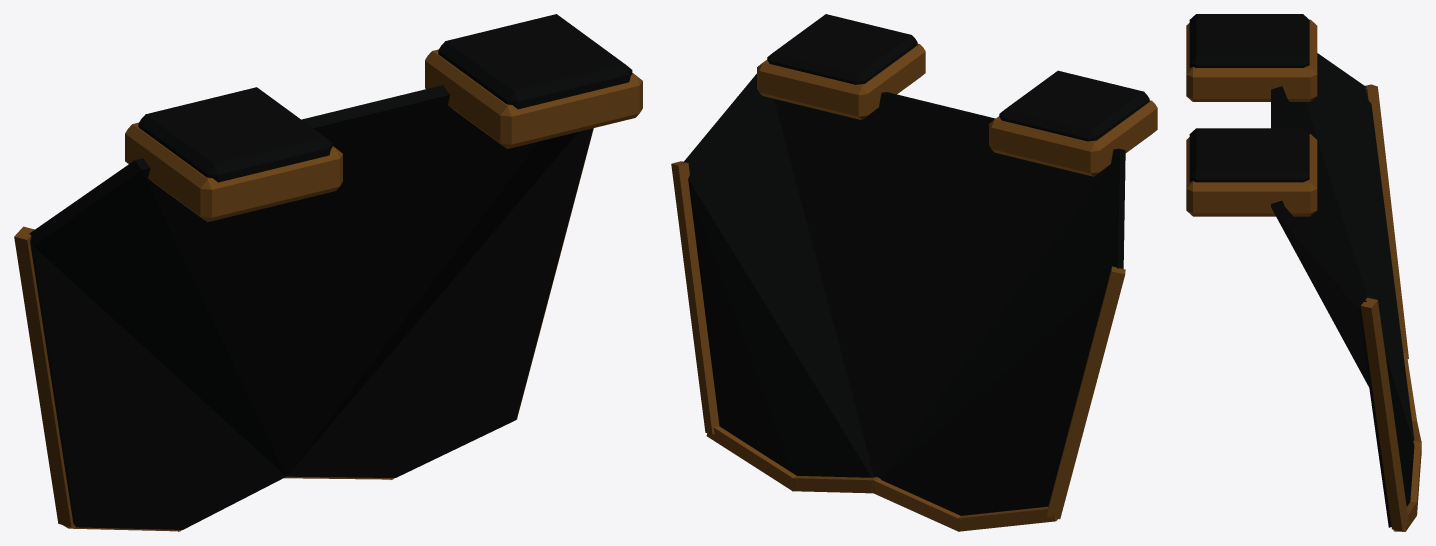
The model's file is accessory-black-mantle-v1.fbx.
3 renders of one model, left to right at view 1: azimuth 30°, elevation 25°; view 2: azimuth 150°, elevation 25°; view 3: azimuth 270°, elevation 25°, orthographic. The views are drawn at different scales.
Visible parts, largest first — view 1: accessory-black-mantle-v1; view 2: accessory-black-mantle-v1; view 3: accessory-black-mantle-v1.
Part boxes in pixels (x1,y1,x2,y2): accessory-black-mantle-v1: (14,14,642,531); accessory-black-mantle-v1: (671,14,1157,531); accessory-black-mantle-v1: (1186,14,1421,531).
Bounding box in the file's own units: 243 × 193 × 108.
1 material, 1 textured.
